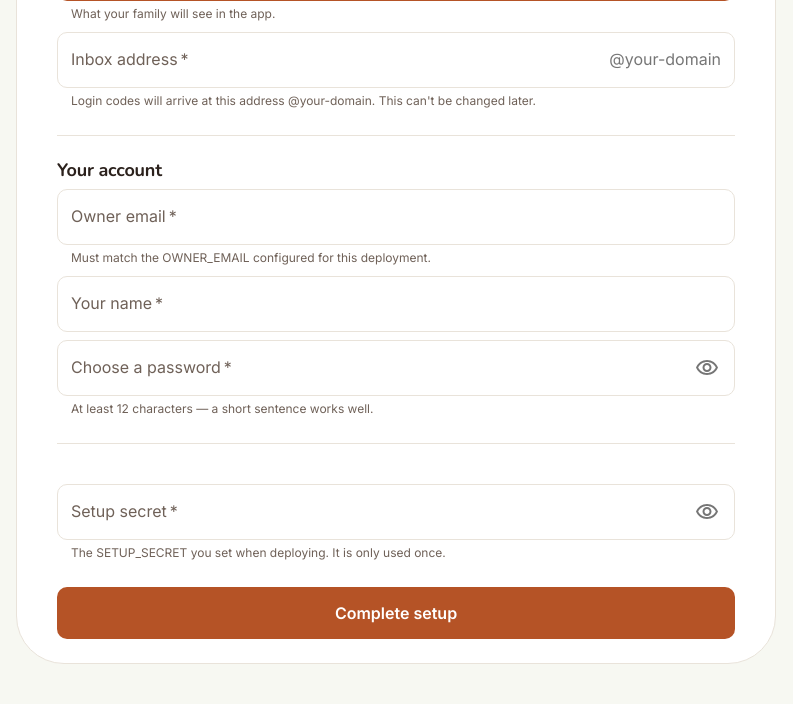
Scenario: SetupPage › does not submit while required fields are missing; errors show inline
The width and height of the screenshot is (793, 704).
(page scrolled)
Click the button "Complete setup" at (396, 613), box [57, 587, 735, 639]
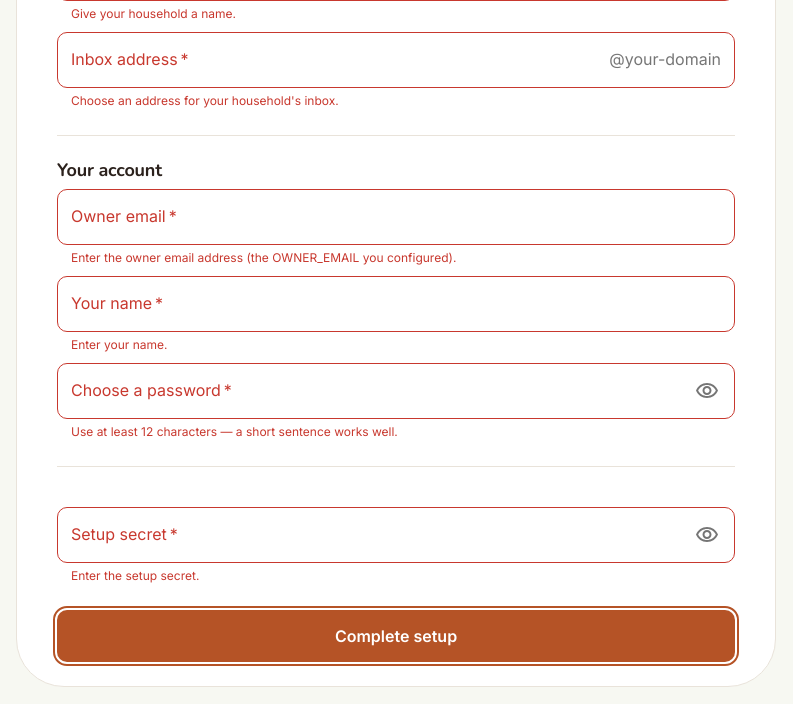
Expected: the text "Give your household a name." is shown, [71, 6, 236, 21]
Expected: the text "Enter the setup secret." is shown, [71, 568, 199, 583]
